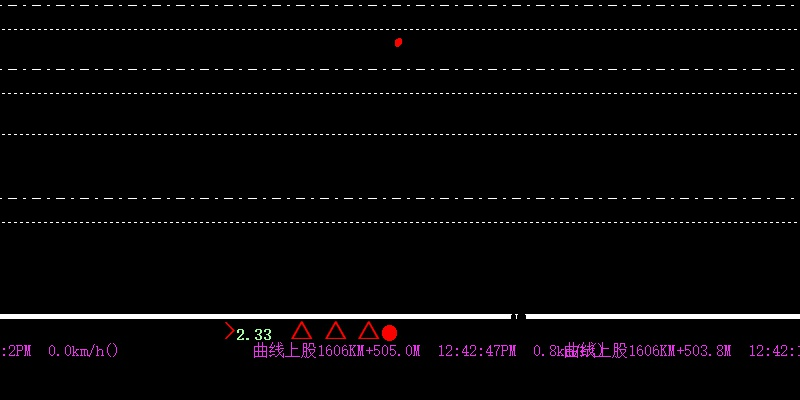circle: (381, 321, 397, 343)
face_down: (393, 25, 403, 47)
